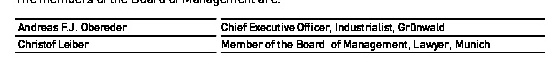table: (0, 0, 557, 69)
